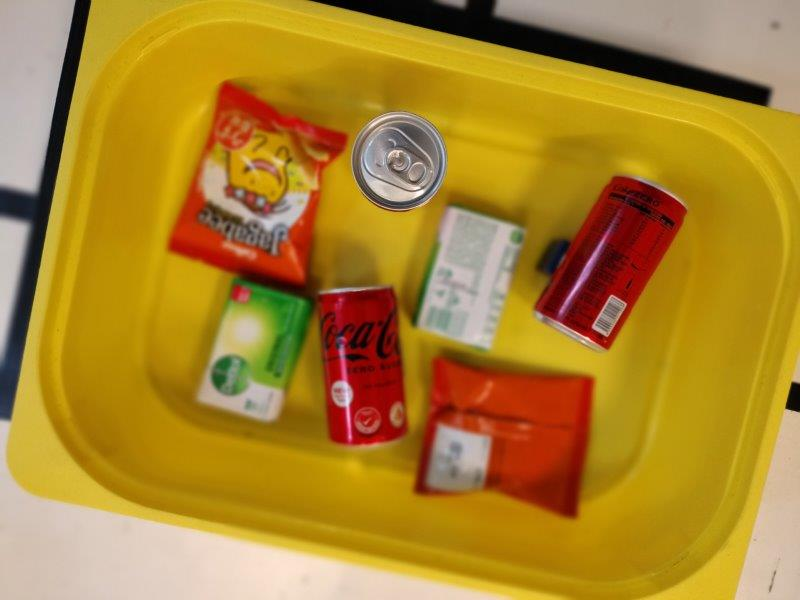Coke: (533, 171, 690, 352), (316, 283, 410, 446), (352, 109, 445, 212)
Dettol: (412, 205, 526, 351), (197, 280, 312, 424)
Jagabee: (166, 80, 349, 289), (414, 357, 598, 523)
